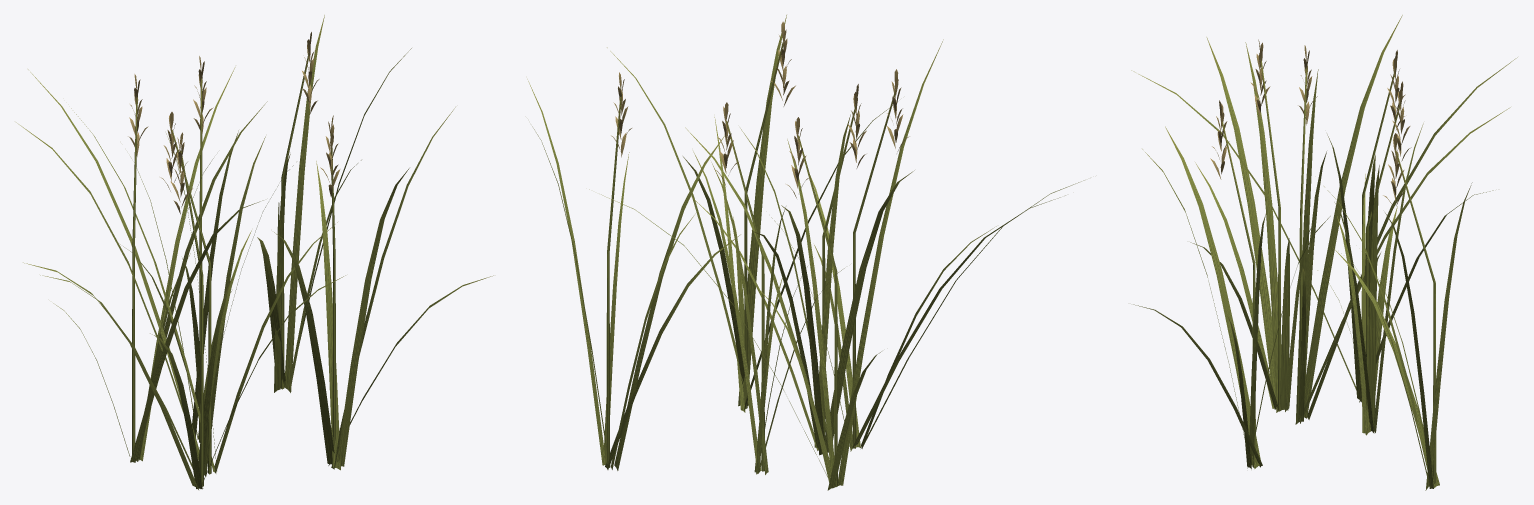
Rendered from TuftedHairgrass_A.fbx.
3 views of the same model, side by side, from view 1: azimuth 30°, elevation 25°; view 2: azimuth 150°, elevation 25°; view 3: azimuth 270°, elevation 25° (orthographic). The views are drawn at different scales.
Parts seen in each view (by area): view 1: TuftedHairgrass_A_LOD0; view 2: TuftedHairgrass_A_LOD0; view 3: TuftedHairgrass_A_LOD0.
Part boxes in pixels (bbox=[...]): TuftedHairgrass_A_LOD0: bbox=[16, 15, 493, 489]; TuftedHairgrass_A_LOD0: bbox=[527, 15, 1084, 490]; TuftedHairgrass_A_LOD0: bbox=[1131, 15, 1517, 490].
Size of what is drawn, in the model's own units: 59.59 by 45.37 by 44.68.
Materials: 1 (1 with a texture image).
